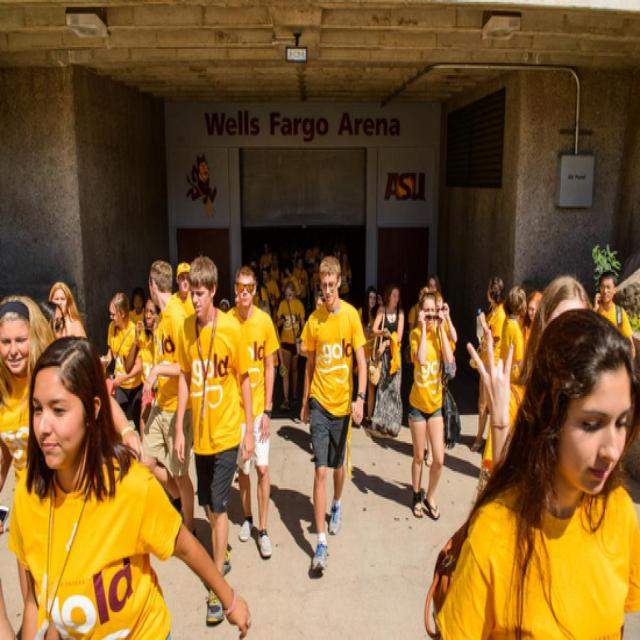body: (11, 334, 254, 639), (423, 302, 640, 639), (170, 255, 256, 625), (465, 274, 594, 505), (265, 414, 414, 602), (297, 254, 368, 574), (0, 292, 57, 610), (138, 258, 200, 542), (224, 265, 280, 561), (406, 284, 461, 521), (470, 273, 508, 454), (98, 292, 144, 441), (367, 285, 406, 441), (124, 293, 162, 445), (408, 272, 461, 369), (293, 240, 358, 312), (274, 280, 308, 415), (592, 268, 636, 362), (0, 428, 18, 640), (357, 285, 382, 431), (48, 280, 89, 339), (170, 259, 197, 323), (36, 300, 68, 343), (248, 256, 268, 314), (260, 268, 282, 319), (506, 286, 527, 328), (523, 290, 543, 329), (281, 260, 302, 296), (419, 430, 436, 469), (128, 292, 146, 323), (258, 240, 273, 270), (269, 252, 281, 281), (215, 298, 231, 316)
